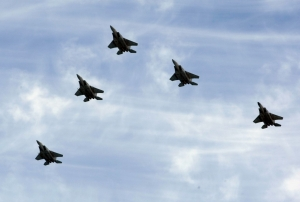flight: (107, 25, 139, 55), (169, 58, 200, 88), (74, 73, 104, 103), (253, 101, 284, 129), (34, 139, 64, 166)
